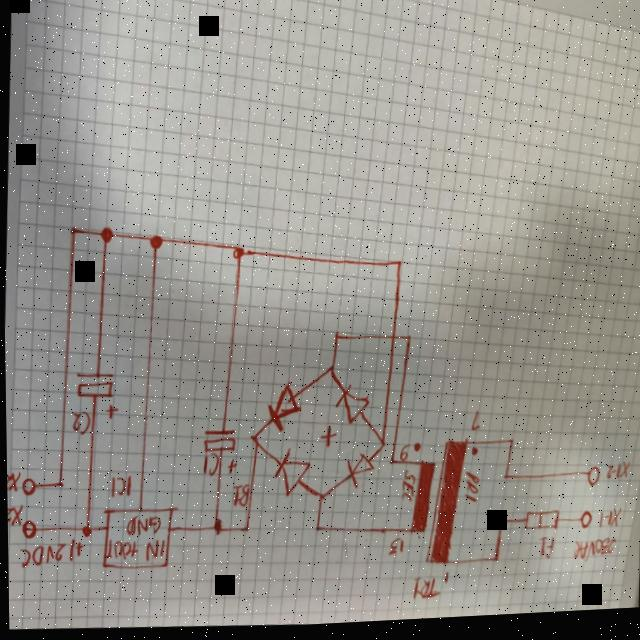capacitor: (72, 369, 121, 424), (200, 427, 239, 481)
crossover: (389, 337, 397, 347)
diode: (270, 450, 312, 503), (265, 382, 301, 437), (333, 386, 371, 431), (345, 454, 374, 493)
junction: (148, 234, 164, 254), (99, 226, 114, 247), (232, 249, 245, 264), (80, 525, 93, 540), (248, 435, 260, 450), (211, 522, 222, 538), (315, 494, 325, 507), (325, 368, 335, 380), (69, 226, 78, 239), (332, 334, 340, 346), (491, 559, 499, 571), (312, 528, 320, 539), (404, 337, 412, 348), (506, 442, 514, 452), (387, 462, 395, 472), (495, 523, 503, 533), (395, 263, 403, 273), (241, 527, 249, 537), (377, 443, 385, 453), (55, 481, 63, 491), (500, 478, 508, 487)
terminal: (18, 475, 37, 498), (584, 470, 601, 495), (20, 519, 37, 542), (577, 516, 592, 537)
text: (16, 537, 84, 572), (570, 540, 616, 570), (101, 539, 139, 564), (409, 578, 441, 607), (124, 515, 161, 540), (596, 512, 622, 539), (107, 474, 132, 502), (603, 467, 630, 490), (69, 410, 91, 438), (229, 484, 250, 512), (143, 539, 165, 565), (462, 476, 479, 509), (6, 502, 24, 532), (400, 474, 415, 508), (537, 540, 555, 568), (200, 452, 218, 480), (318, 427, 337, 453), (5, 468, 22, 496), (385, 541, 404, 563), (469, 415, 481, 437), (398, 450, 409, 466), (441, 574, 450, 590)
transformer: (405, 443, 481, 573)
